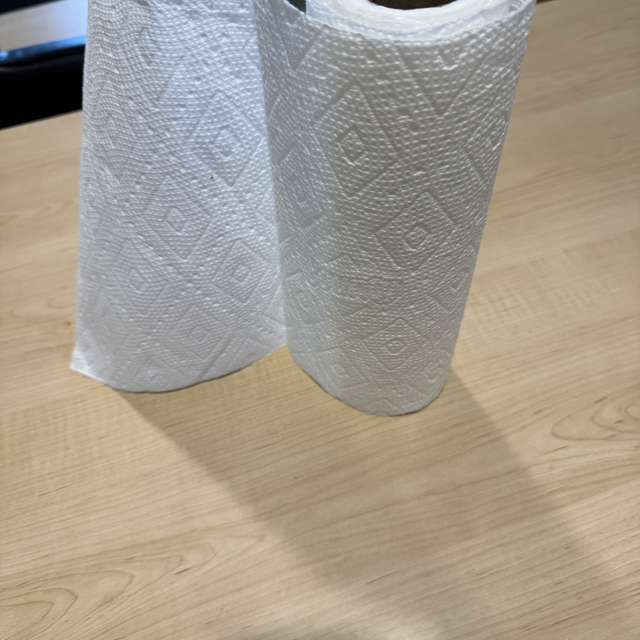Paper Towel: (83, 2, 508, 411)
